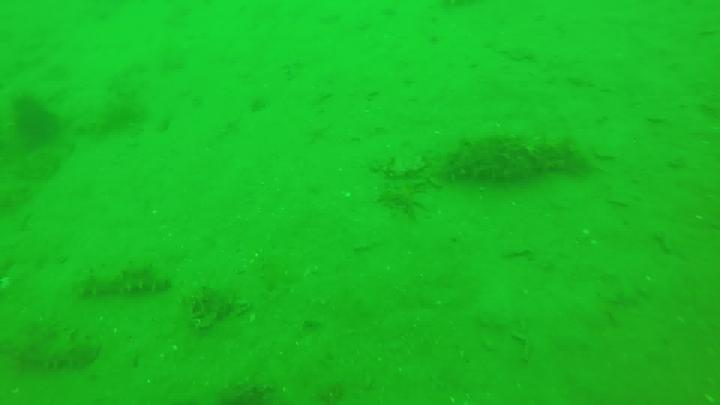holothurian: (430, 135, 587, 183), (12, 324, 96, 375), (77, 262, 170, 296)
